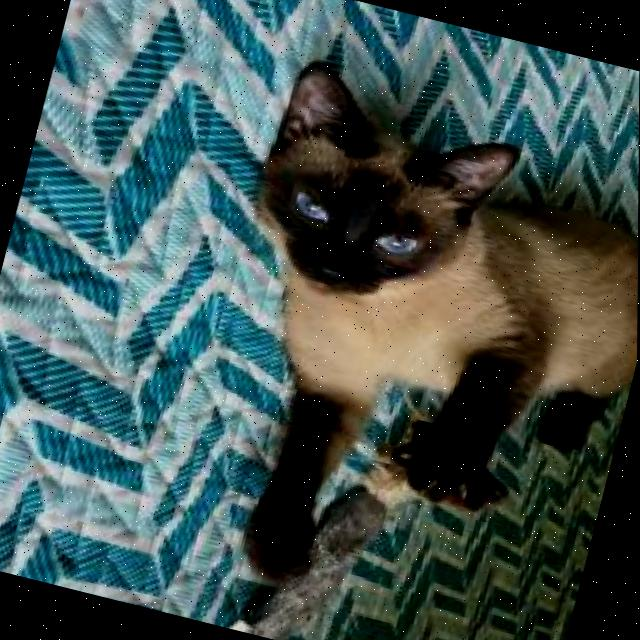Siamese: (163, 49, 640, 640)
